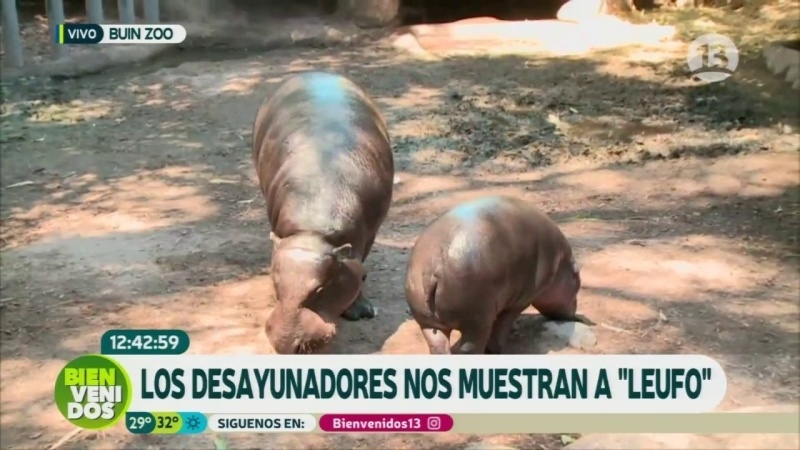hipopotamo: (240, 69, 394, 354), (394, 182, 597, 354)
